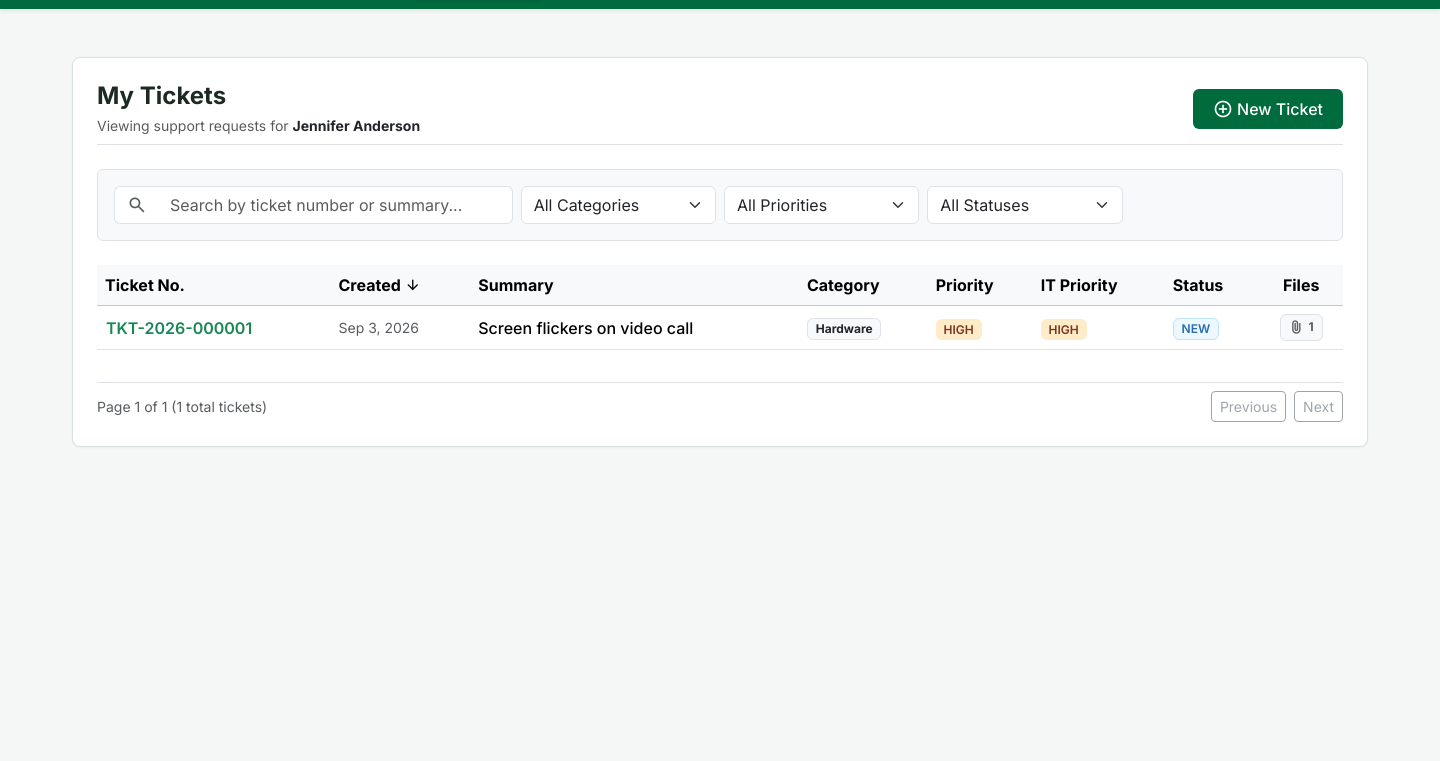
Lab 2 Requester Ticket Detail Suite (client/tests/lab-02/RequesterTicketDetail.test.tsx) › shows Actions Taken in its own tab without exposing Internal Notes
What coordinates should you click on to do the following:
click the button "TKT-2026-000001"
I would click on:
 (179, 328)
Its box is [105,315,253,341].
(page scrolled)
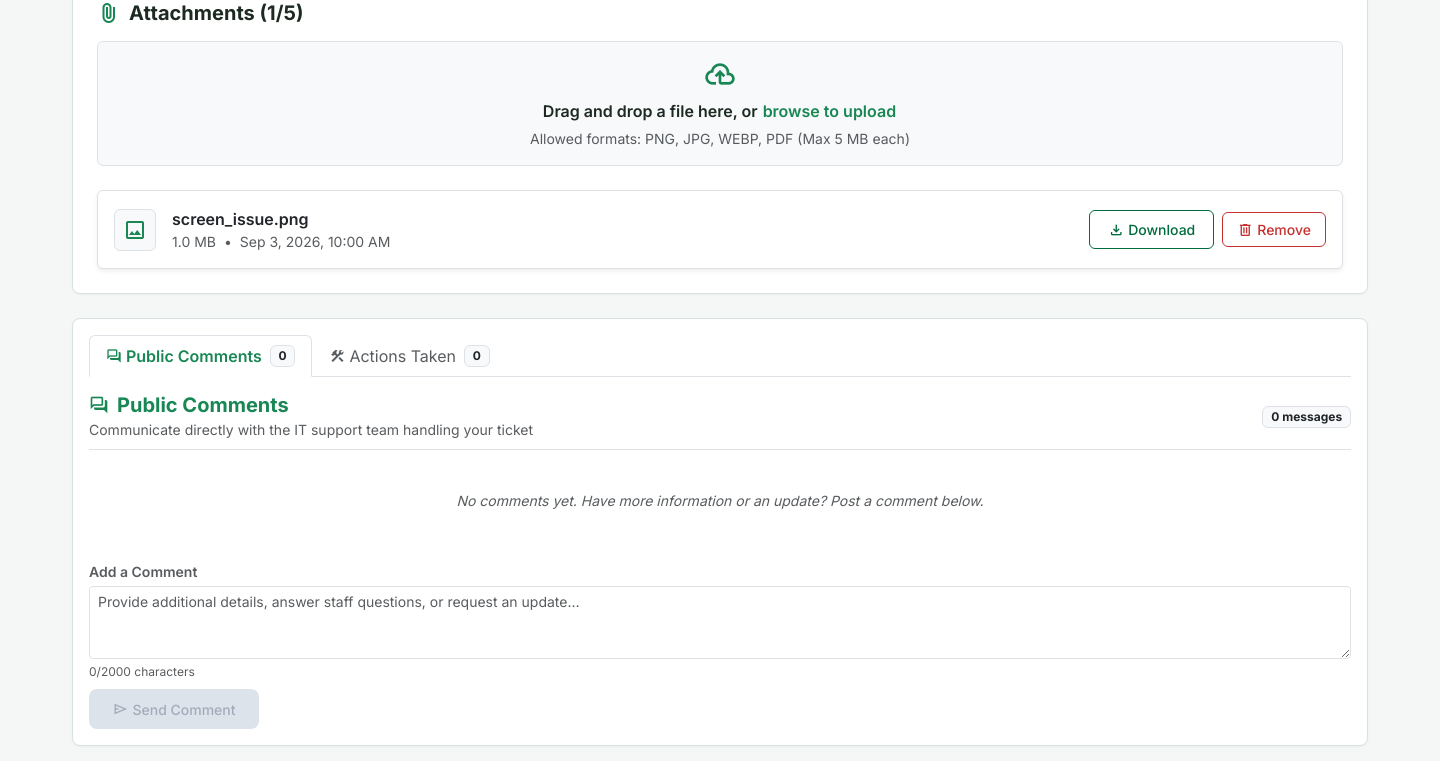
Result: the tab "Public Comments 0" is shown at [89,335,312,377]
What coordinates should you click on to do the following:
click the tab "Actions Taken 0"
I would click on:
 (410, 356)
Its box is [312,335,507,377].
(page scrolled)
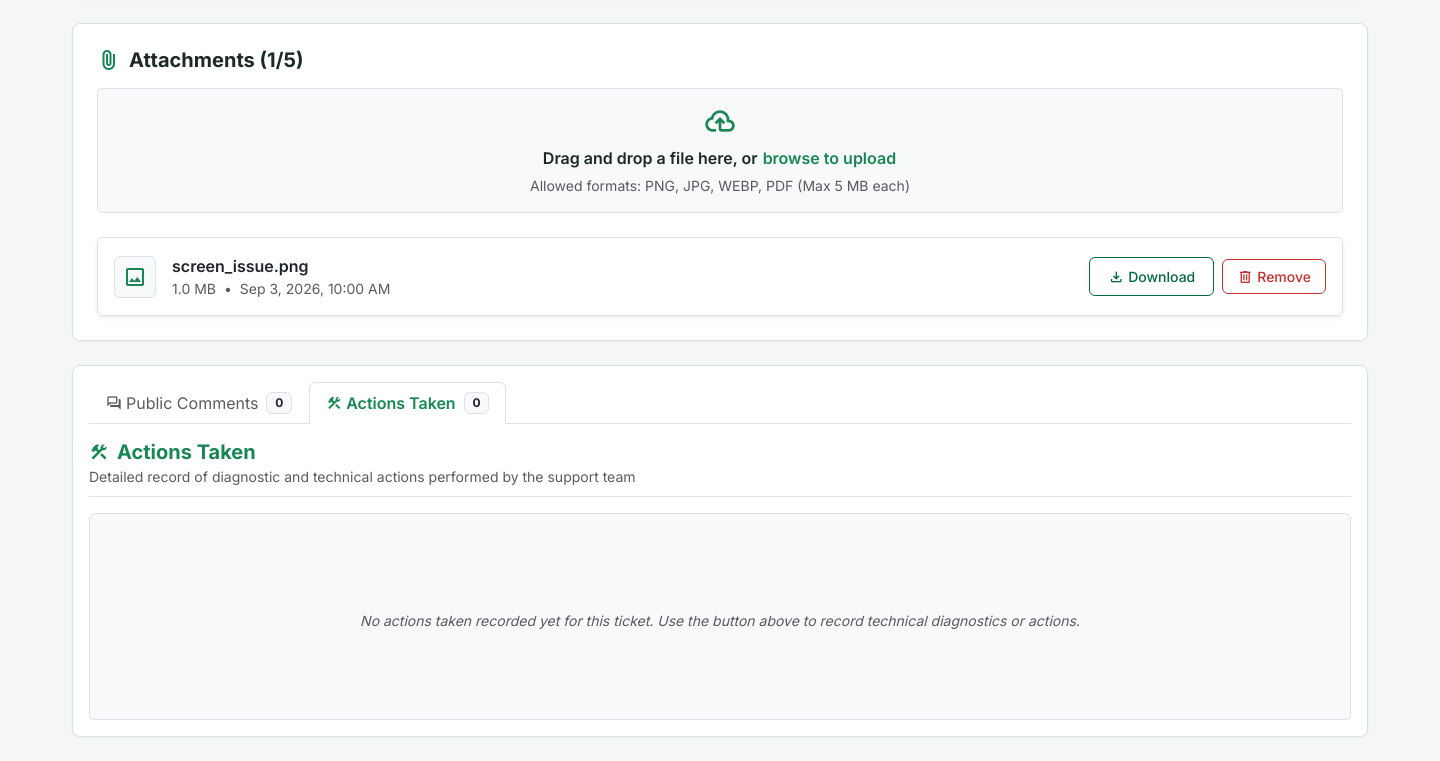
Result: the element with test id "actions-taken-section" is shown at [89,440,1351,720]
